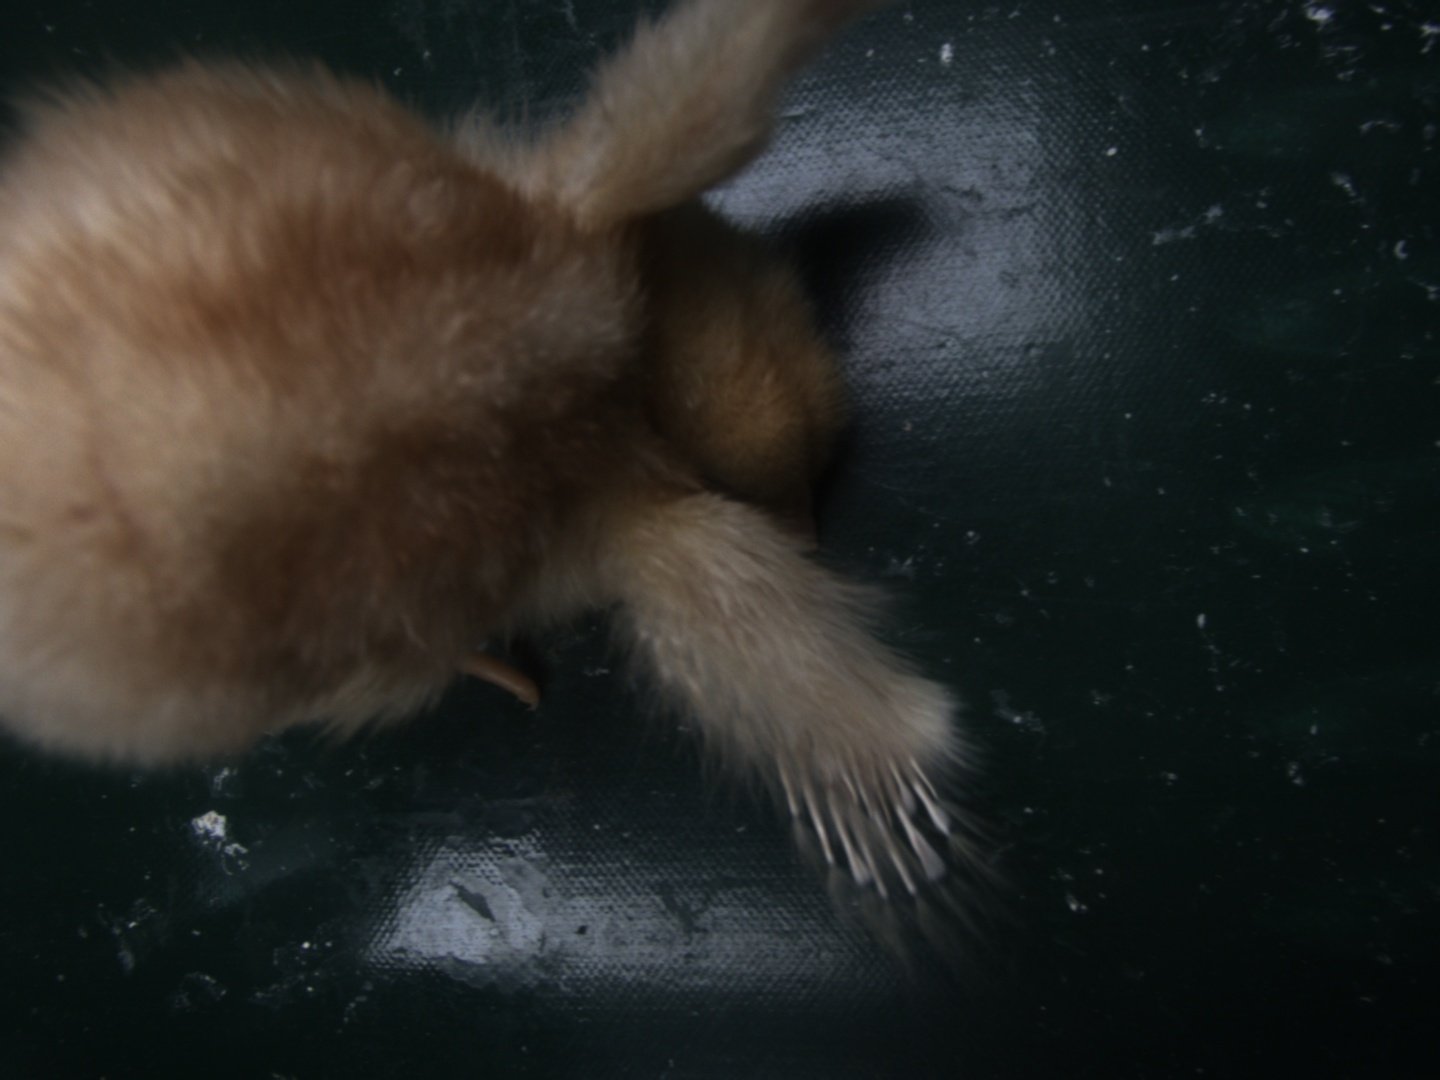female: (773, 739, 954, 895)
